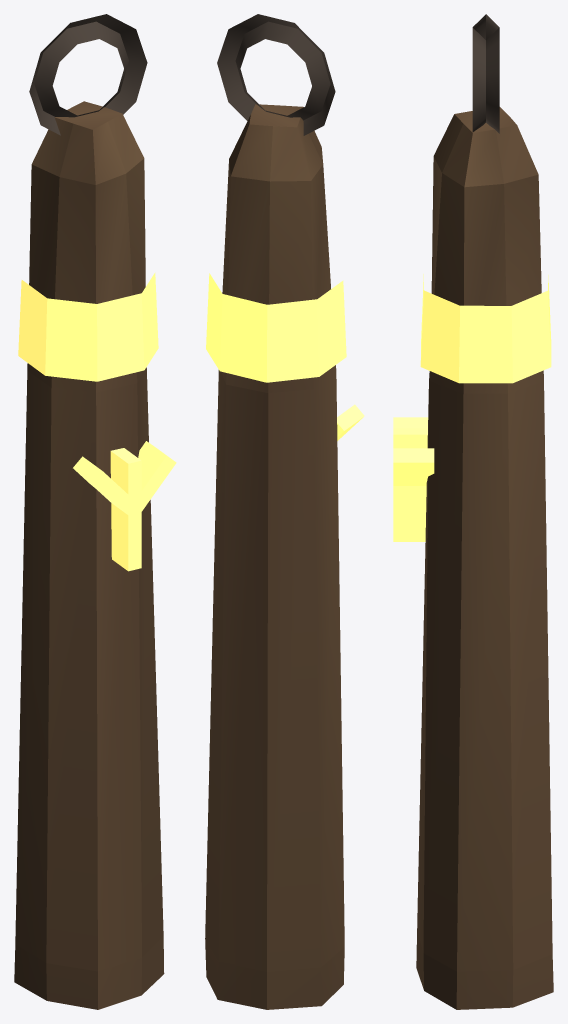
File: anchor_stake.glb
3 views of the same model, side by side, from view 1: azimuth 30°, elevation 25°; view 2: azimuth 150°, elevation 25°; view 3: azimuth 270°, elevation 25° (orthographic).
Parts seen in each view (by area): view 1: anchor_stake; view 2: anchor_stake; view 3: anchor_stake.
Boxes of the visible parts, x1=… form: anchor_stake: x1=14, y1=14, x2=176, y2=1009; anchor_stake: x1=205, y1=14, x2=364, y2=1009; anchor_stake: x1=393, y1=14, x2=553, y2=1009.
Bounding box in the file's own units: 0.1656 × 1.26 × 0.191.
